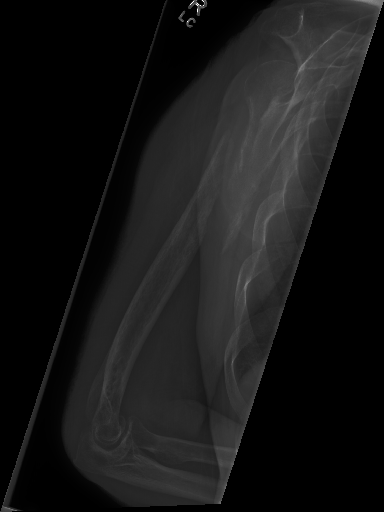fracture: (176, 171, 219, 259)
